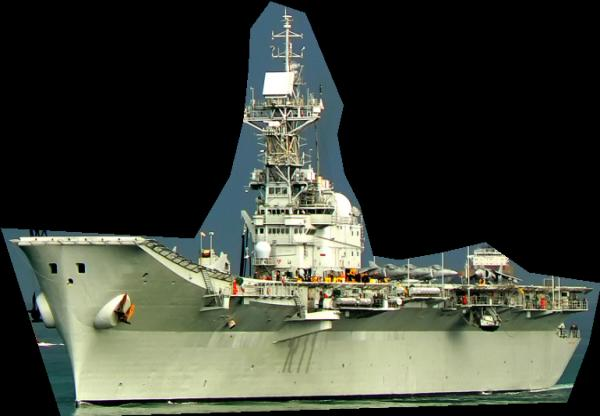Aircraft Carrier: (1, 0, 600, 416)
